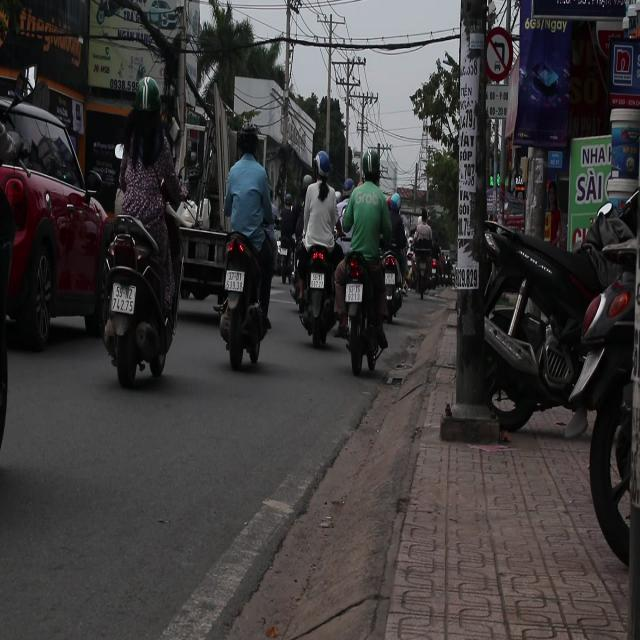car: (1, 56, 108, 356)
motorbike: (567, 215, 640, 576), (105, 212, 177, 398), (226, 222, 268, 390), (344, 239, 384, 397), (302, 240, 340, 360), (382, 245, 410, 324)
